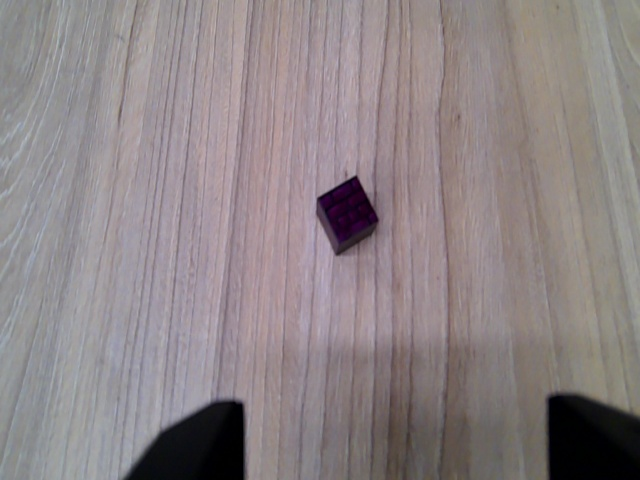brick: (313, 175, 380, 257)
